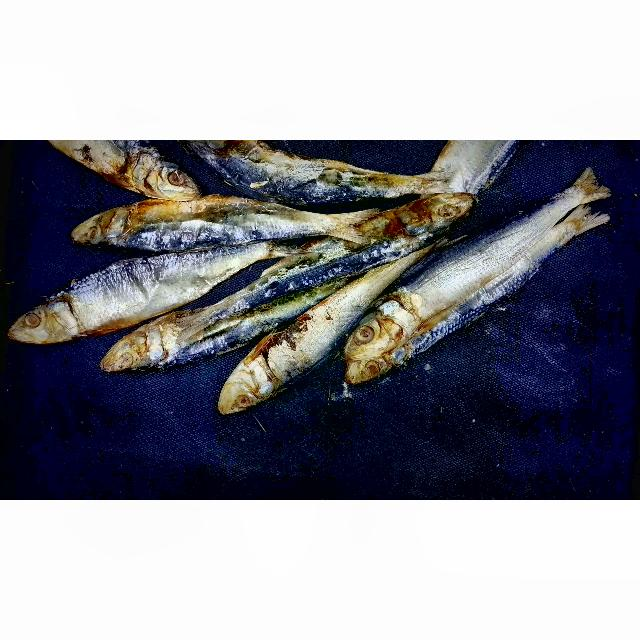Grade_B_Body: (261, 259, 410, 385), (407, 217, 548, 318), (91, 239, 238, 317), (144, 191, 325, 254), (242, 145, 378, 204)
Grade_B_Head: (7, 273, 83, 360), (94, 325, 180, 385), (214, 352, 267, 421), (346, 295, 398, 365), (67, 203, 133, 253), (137, 150, 195, 202), (421, 188, 473, 233)
Grade_B_Tail: (519, 164, 615, 222), (288, 199, 381, 252), (536, 205, 617, 263), (375, 160, 461, 200)
